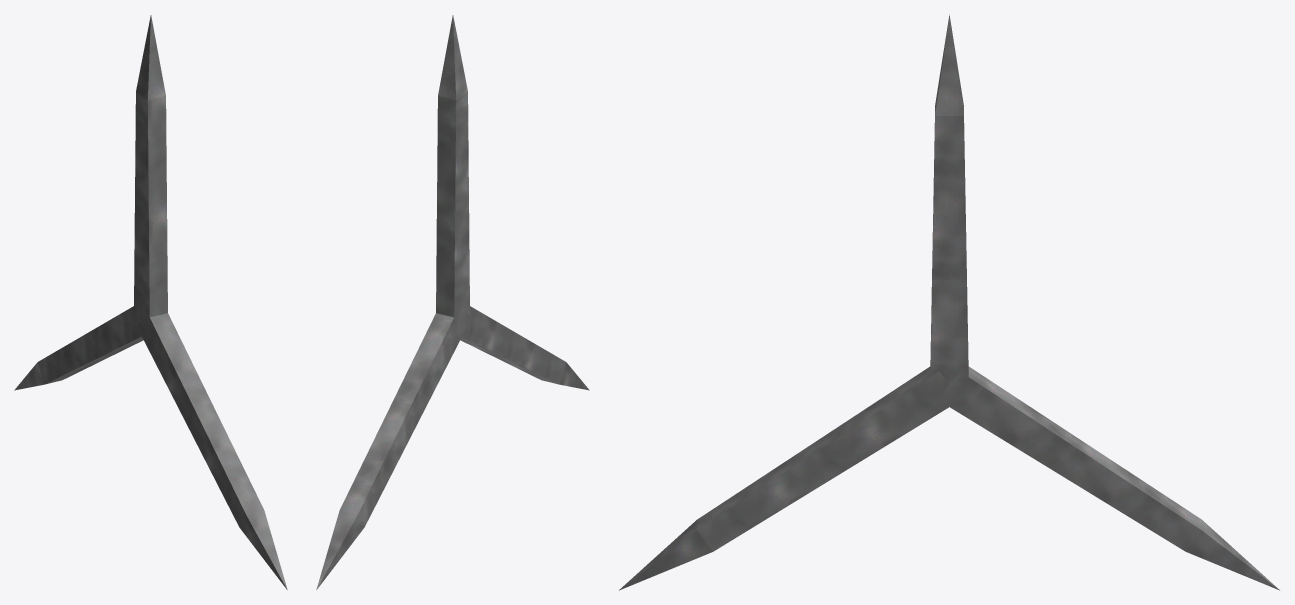
The model's file is cessna_propeller.obj.
3 views of the same model, side by side, from view 1: azimuth 30°, elevation 25°; view 2: azimuth 150°, elevation 25°; view 3: azimuth 270°, elevation 25° (orthographic). The views are drawn at different scales.
Bounding box in the file's own units: 0.0556 × 1.39 × 1.45.
